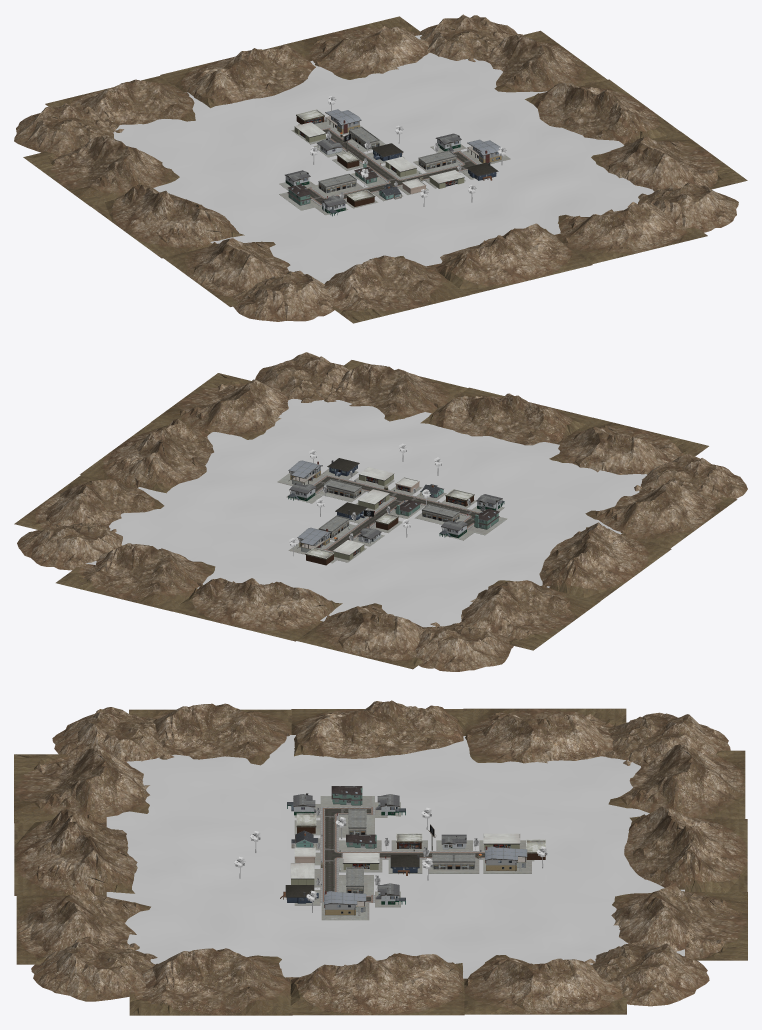
Rendered from floor013 (1) (merge).fbx.
3 renders of one model, top to bottom at view 1: azimuth 30°, elevation 25°; view 2: azimuth 150°, elevation 25°; view 3: azimuth 270°, elevation 25°, orthographic. The views are drawn at different scales.
Visible parts, largest first — view 1: Mounts, Plane001, DoubleRoad, building_016, building_021, building_019, building_009; view 2: Mounts, Plane001, DoubleRoad, building_021, building_016; view 3: Mounts, Plane001, DoubleRoad, building_021, building_016, building_017, building_007, building_011, building_014, building_002, building_018.
Part boxes in pixels (bbox=[...]): Mounts: bbox=[14, 14, 747, 323]; Plane001: bbox=[113, 35, 654, 283]; DoubleRoad: bbox=[306, 127, 478, 205]; building_016: bbox=[325, 109, 361, 133]; building_021: bbox=[467, 139, 501, 163]; building_019: bbox=[418, 150, 456, 169]; building_009: bbox=[318, 173, 356, 193]; Mounts: bbox=[14, 352, 747, 671]; Plane001: bbox=[85, 399, 646, 627]; DoubleRoad: bbox=[312, 474, 480, 552]; building_021: bbox=[288, 460, 322, 484]; building_016: bbox=[297, 527, 331, 552]; Mounts: bbox=[14, 700, 747, 1015]; Plane001: bbox=[106, 735, 684, 978]; DoubleRoad: bbox=[320, 807, 484, 902]; building_021: bbox=[324, 891, 366, 915]; building_016: bbox=[485, 846, 527, 871]; building_017: bbox=[432, 853, 475, 869]; building_007: bbox=[331, 786, 362, 805]; building_011: bbox=[342, 853, 379, 869]; building_014: bbox=[483, 833, 520, 850]; building_002: bbox=[290, 863, 314, 884]; building_018: bbox=[390, 854, 419, 875].
Bounding box in the file's own units: 351 × 19.22 × 355.
